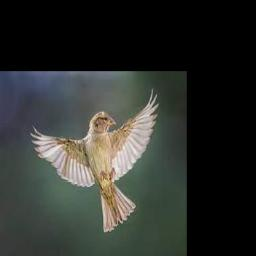Sparrow: (30, 88, 159, 232)
